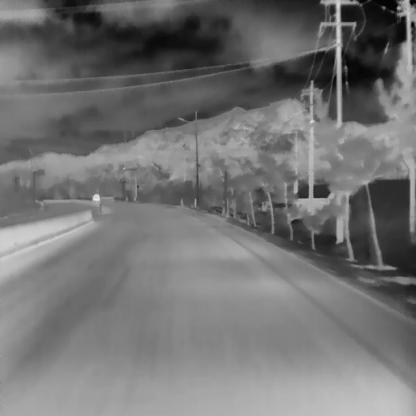car: (91, 192, 99, 200)
